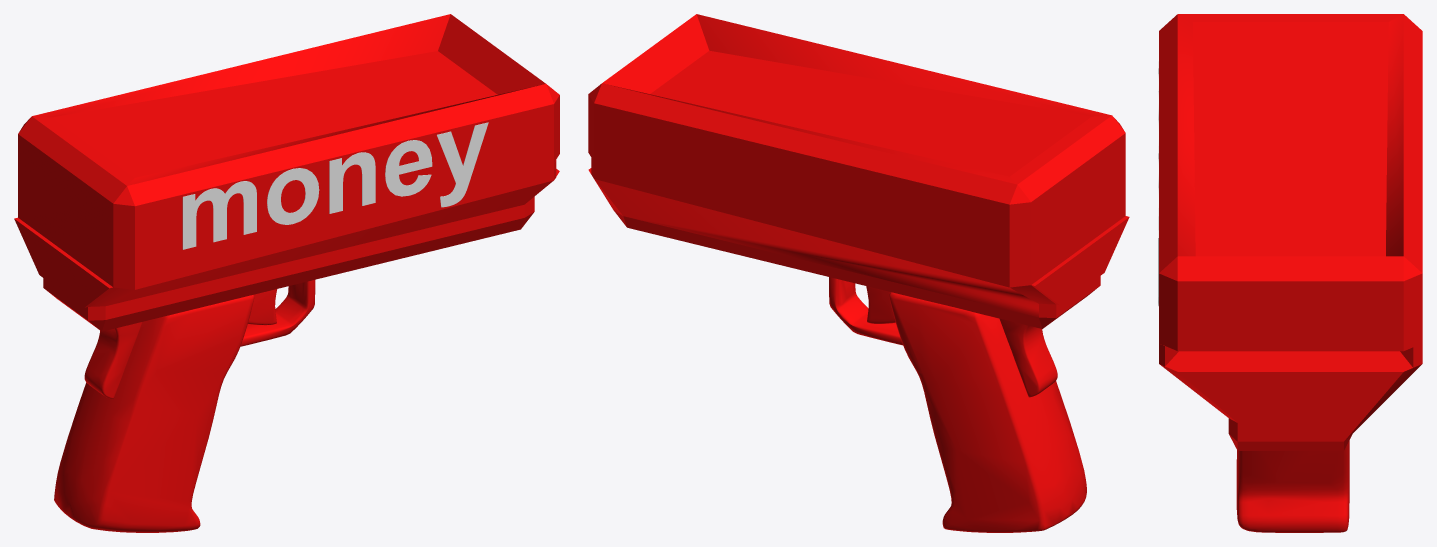
Rendered from moneygun2.fbx.
The picture shows the model from 3 angles, left to right: view 1: azimuth 30°, elevation 25°; view 2: azimuth 150°, elevation 25°; view 3: azimuth 270°, elevation 25°; orthographic projection. The views are drawn at different scales.
Visible parts, largest first — view 1: Box003, pCube2, Text001, pCube4, pCube5, pCube3; view 2: Box003, pCube2, pCube4, pCube5, pCube3; view 3: Box003, pCube2.
Boxes of the visible parts, x1,y1,x2,y2 form: Box003: [14, 14, 559, 331]; pCube2: [54, 294, 254, 532]; Text001: [182, 122, 488, 249]; pCube4: [84, 322, 142, 399]; pCube5: [240, 280, 315, 346]; pCube3: [248, 289, 277, 325]; Box003: [588, 14, 1129, 328]; pCube2: [889, 292, 1086, 532]; pCube4: [999, 319, 1057, 397]; pCube5: [829, 277, 902, 345]; pCube3: [866, 286, 895, 323]; Box003: [1159, 14, 1422, 450]; pCube2: [1236, 440, 1349, 532].
Bounding box in the file's own units: 113 × 93.78 × 48.57.
